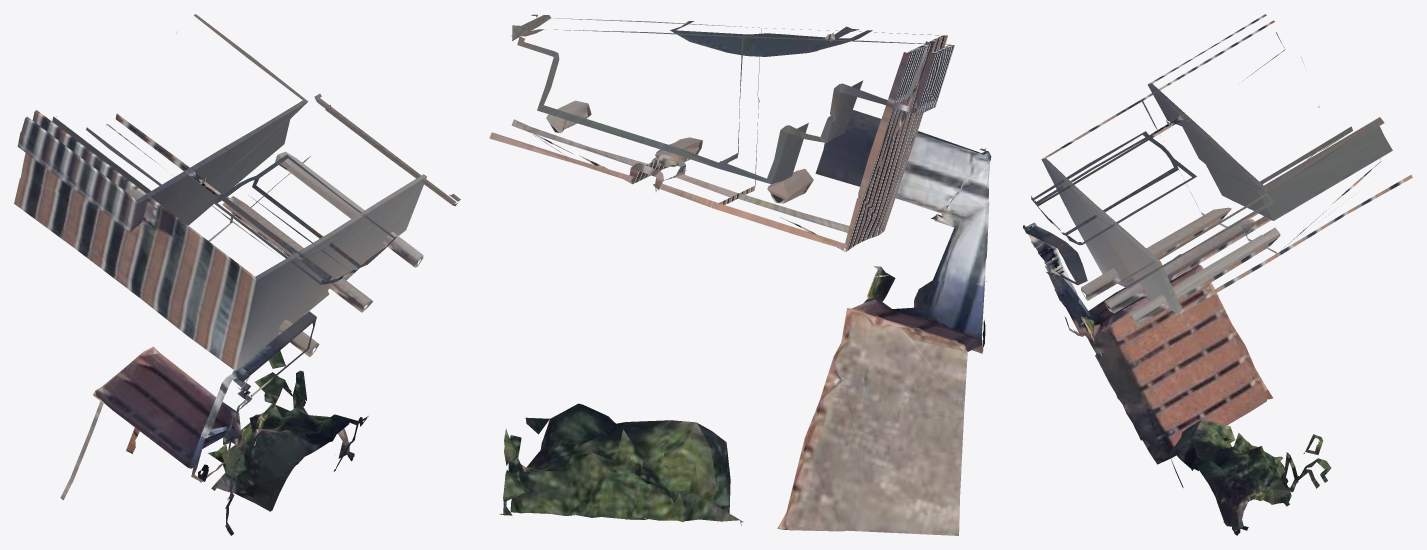
Rendered from AJVsH2x4yCWSxMeCLMZDxR2vHlDAzCVGFG1C4J40EDPYPvhxkBoeXjdfTYfSeX30xOTJP_BTRwydfLPZ7kCV0iiJgCHfWExj1Q_-byv6O0g6rQ1VODmiSIihAaryH8VnhQzPu6JYH5_llmiFy8_d5kfCmSpi.glb.
3 renders of one model, left to right at view 1: azimuth 30°, elevation 25°; view 2: azimuth 150°, elevation 25°; view 3: azimuth 270°, elevation 25°, orthographic. The views are drawn at different scales.
Bounding box in the file's own units: 45.19 × 49.43 × 45.38.
Materials: 1 (1 with a texture image).
